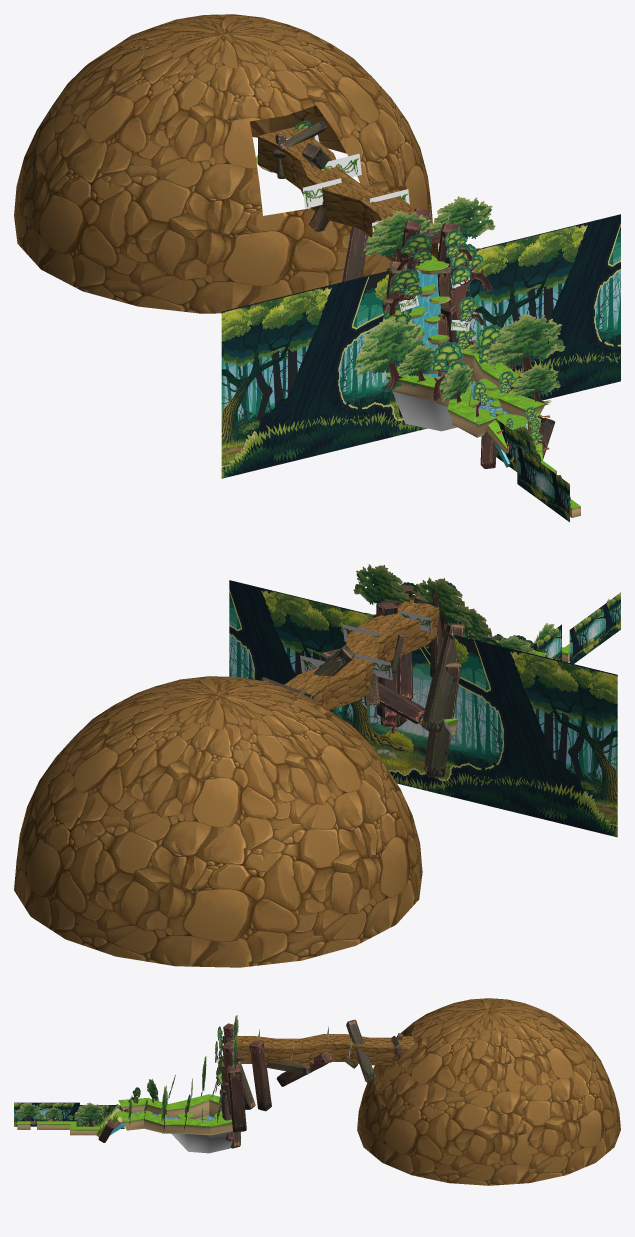
Rendered from MapLesson1.fbx.
3 views of the same model, one above another, from view 1: azimuth 30°, elevation 25°; view 2: azimuth 150°, elevation 25°; view 3: azimuth 270°, elevation 25° (orthographic). The views are drawn at different scales.
Visible parts, largest first — view 1: pSphere1, pPlane3, pCube45, pCube41, pPlane55, pPlane56, pPlane1, pPlane69, pPlane70, pPlane54, pCube42, pPlane64 (+7 smaller); view 2: pSphere1, pPlane3, pCube45, pCube61, pPlane1, pCube59, pPlane69, pPlane70, pCube68, pCube66, pCube57, pCube70 (+2 smaller); view 3: pSphere1, pCube41, pCube45, pCube60, pCube66, pPlane1, pCube70, pCube68, pPlane52, pCube69.
Part boxes in pixels (x1,y1,x2,y2): pSphere1: (14,14,432,313); pPlane3: (221,214,620,478); pCube45: (258,127,438,261); pCube41: (386,343,545,437); pPlane55: (486,313,565,378); pPlane56: (354,317,427,391); pPlane1: (517,446,569,522); pPlane69: (428,196,495,251); pPlane70: (364,210,430,271); pPlane54: (512,364,560,405); pCube42: (411,270,440,376); pPlane64: (449,243,491,291); pSphere1: (14,676,422,967); pPlane3: (229,580,617,837); pCube45: (284,598,439,710); pCube61: (421,622,464,732); pPlane1: (569,592,620,663); pCube59: (424,662,461,777); pPlane69: (353,564,410,619); pPlane70: (416,577,471,639); pCube68: (378,682,425,723); pCube66: (376,601,397,718); pCube57: (397,584,412,699); pCube70: (314,645,354,676); pSphere1: (357,998,620,1185); pCube41: (118,1094,234,1153); pCube45: (234,1034,414,1065); pCube60: (226,1064,246,1132); pCube66: (249,1040,271,1111); pPlane1: (14,1102,79,1126); pCube70: (346,1019,375,1082); pCube68: (276,1051,332,1086); pPlane52: (73,1102,106,1126); pCube69: (265,1062,310,1074).
Size of the model in its own units: 1092 by 641 by 2300.
